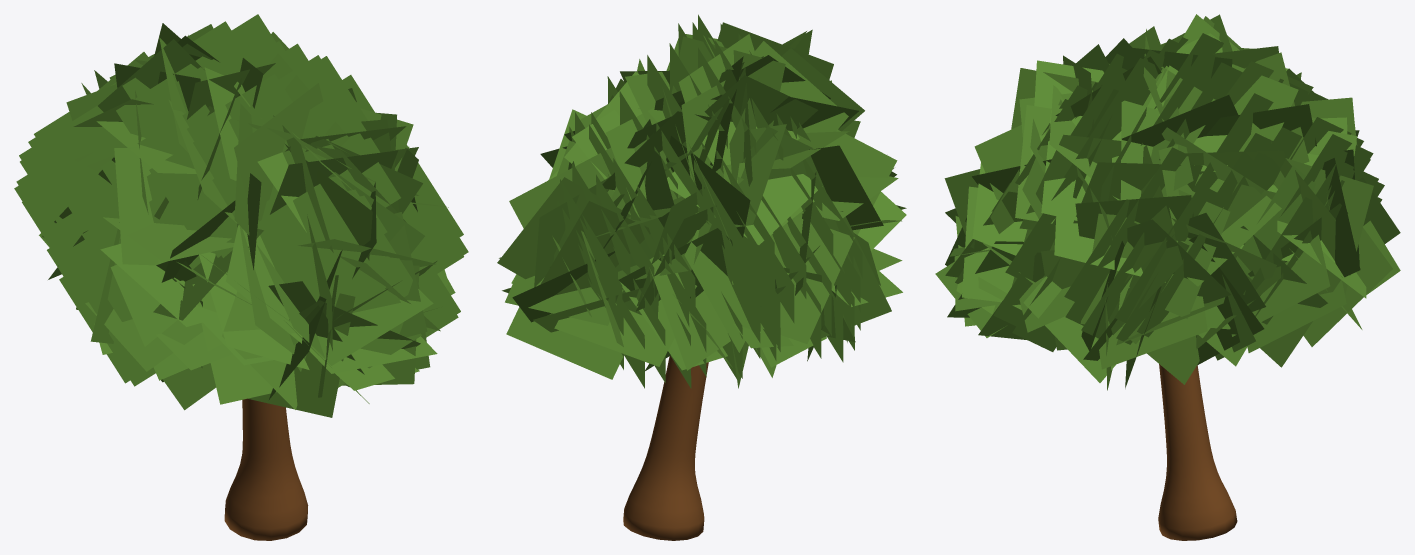
File: TDS-Tree1withFoliage.fbx
The picture shows the model from 3 angles, left to right: view 1: azimuth 30°, elevation 25°; view 2: azimuth 150°, elevation 25°; view 3: azimuth 270°, elevation 25°; orthographic projection. The views are drawn at different scales.
Visible parts, largest first — view 1: Mball.007; view 2: Mball.007; view 3: Mball.007.
Boxes of the visible parts, x1,y1,x2,y2 form: Mball.007: (14, 14, 468, 540); Mball.007: (497, 14, 906, 540); Mball.007: (935, 14, 1400, 540).
Bounding box in the file's own units: 4.92 × 5.6 × 3.99.
